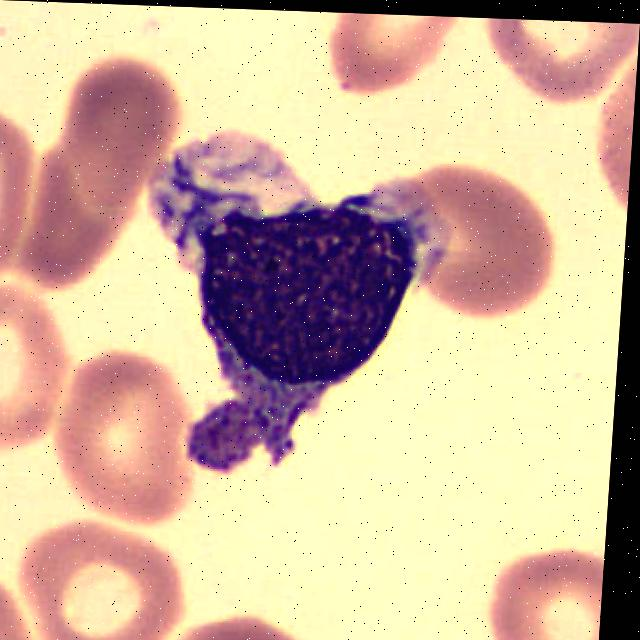monocyte: (134, 118, 459, 481)
rbc: (385, 165, 587, 347), (51, 333, 198, 529), (20, 519, 185, 640), (58, 81, 175, 234), (462, 17, 631, 114), (321, 12, 474, 112), (16, 149, 104, 303), (469, 543, 605, 640), (0, 284, 71, 453), (573, 45, 638, 211), (0, 113, 49, 286), (161, 599, 337, 640), (0, 562, 55, 640)
